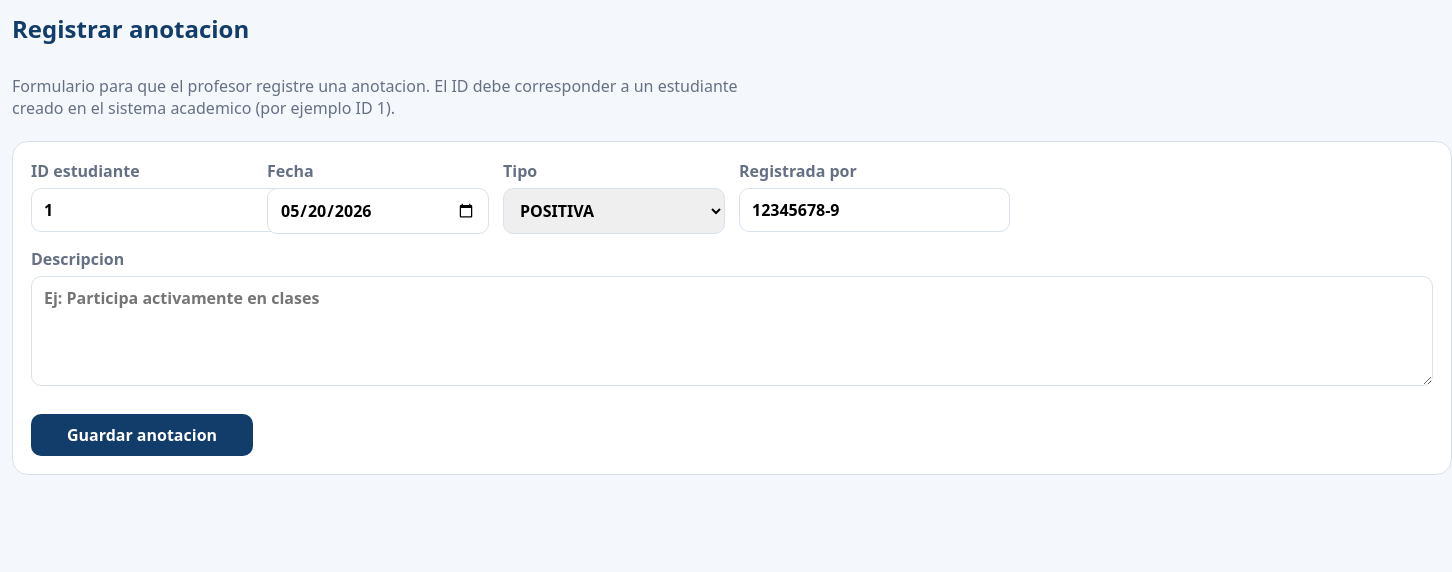
Test case: paginas frontend › RegistrarAnotacion muestra error si estudiante no existe
Replace the text in the number field labelled "ID estudiante" with "99" at (166, 210), box top-left (31, 188), bottom-right (302, 232)
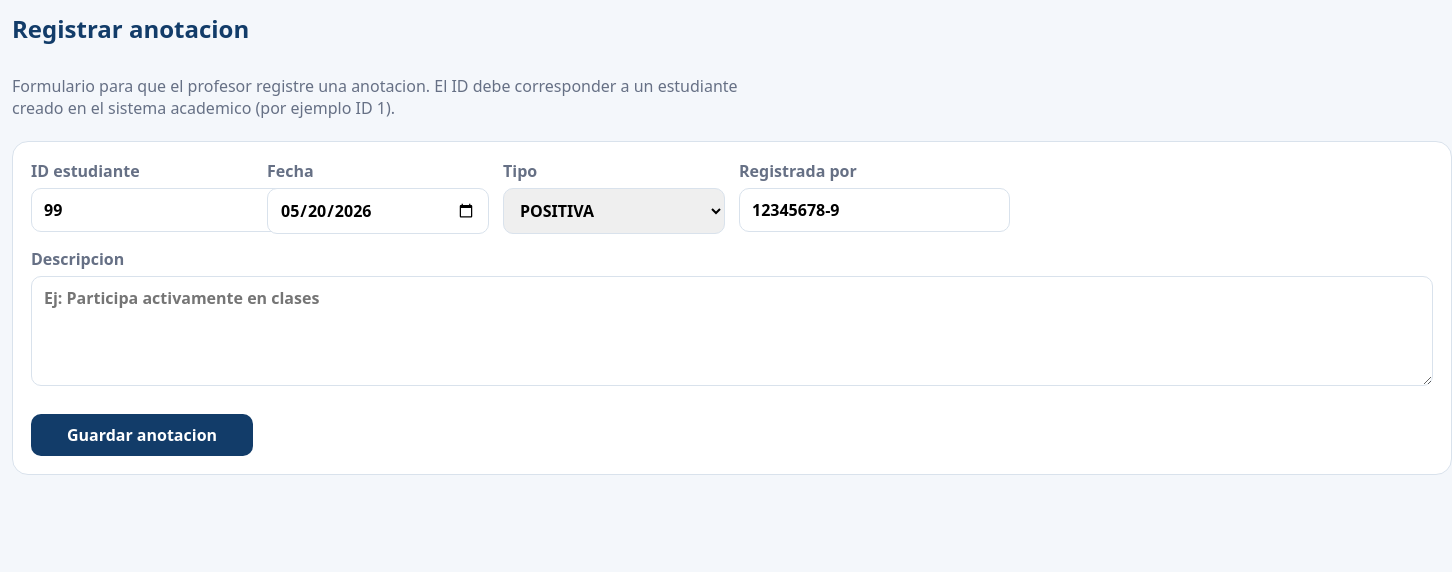
Type "Buen desempeño" into the text box with placeholder "Ej: Participa activamente en clases" at (732, 331), box top-left (31, 276), bottom-right (1433, 386)
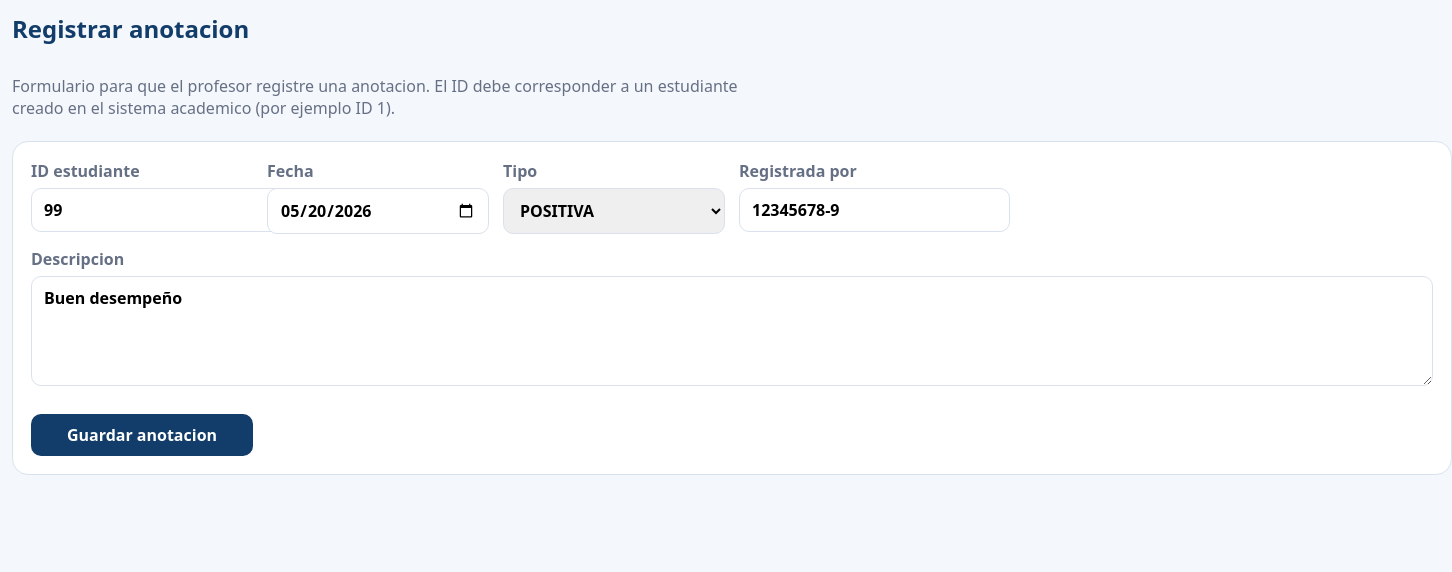
Click the button "Guardar anotacion" at (142, 435), box top-left (31, 414), bottom-right (253, 456)
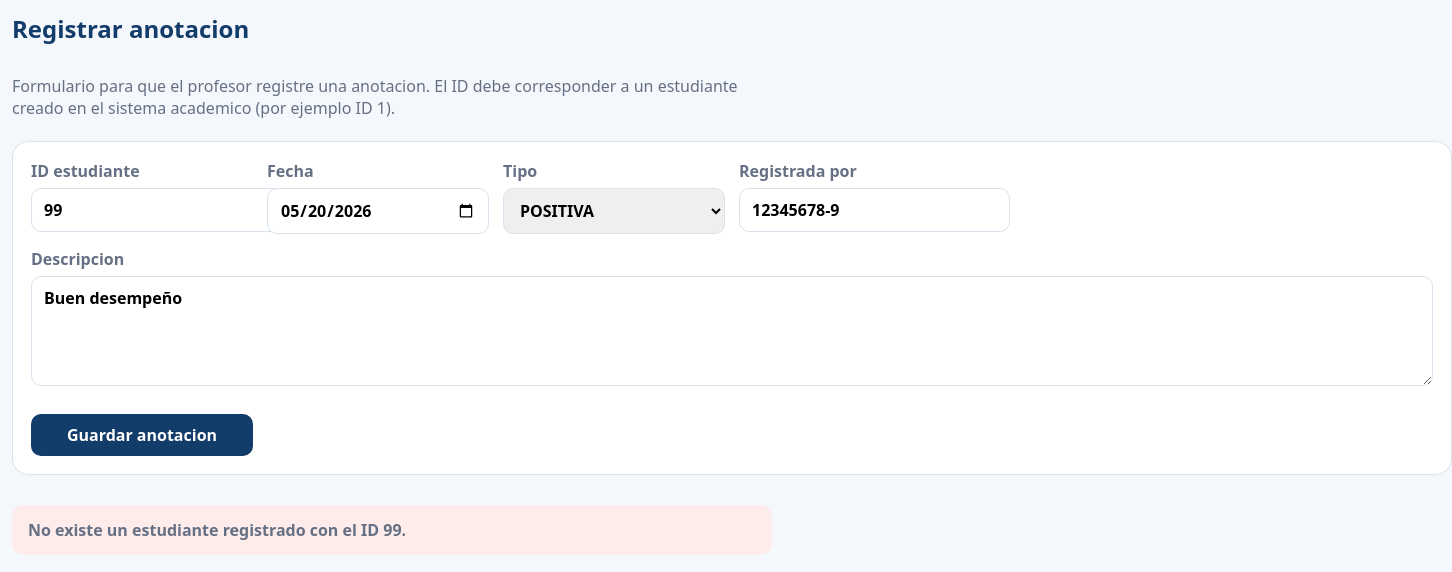
Expected: the text "No existe un estudiante registrado con el ID 99." is shown, top-left (12, 505), bottom-right (772, 555)
